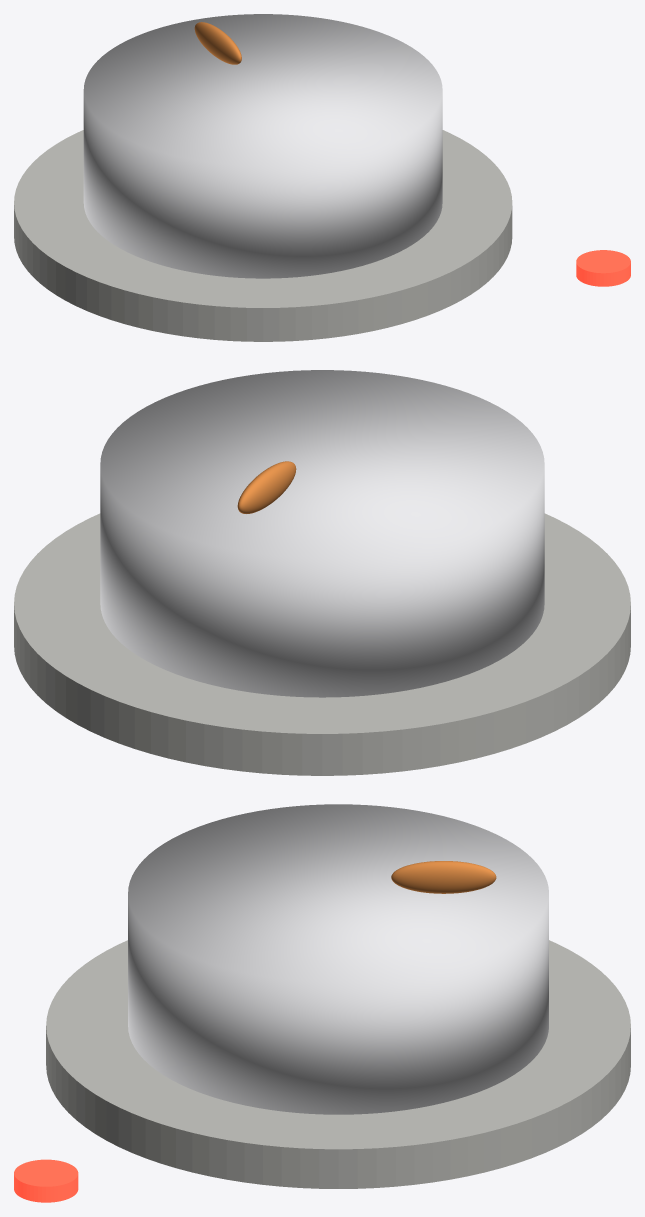
Rendered from blender-knob.glb.
3 views of the same model, one above another, from view 1: azimuth 30°, elevation 25°; view 2: azimuth 150°, elevation 25°; view 3: azimuth 270°, elevation 25° (orthographic). The views are drawn at different scales.
Parts seen in each view (by area): view 1: cap, skirt, lamp, pointer; view 2: cap, skirt, pointer; view 3: cap, skirt, pointer, lamp.
Boxes of the visible parts, left/top/right/bottom form: cap: left=83, top=14, right=442, bottom=278; skirt: left=14, top=130, right=512, bottom=341; lamp: left=576, top=250, right=630, bottom=286; pointer: left=194, top=22, right=241, bottom=64; cap: left=100, top=370, right=544, bottom=697; skirt: left=14, top=513, right=630, bottom=775; pointer: left=237, top=461, right=296, bottom=513; cap: left=128, top=804, right=548, bottom=1114; skirt: left=46, top=940, right=630, bottom=1188; pointer: left=391, top=861, right=496, bottom=893; lamp: left=14, top=1159, right=78, bottom=1202.
Size of what is drawn, in the model's own units: 2.11 by 0.77 by 2.11.
